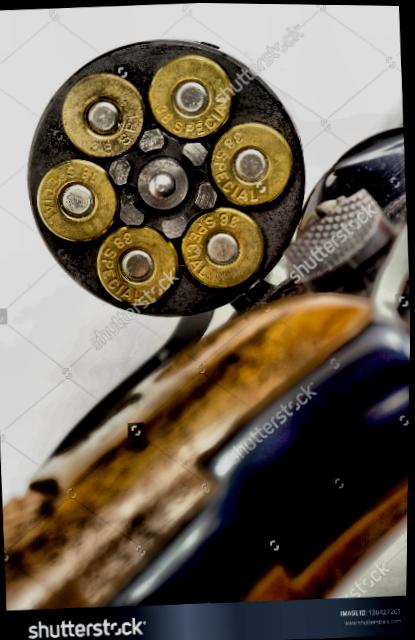pistol: (0, 23, 415, 613)
